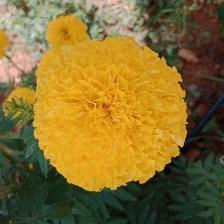marigold: (32, 37, 190, 194)
